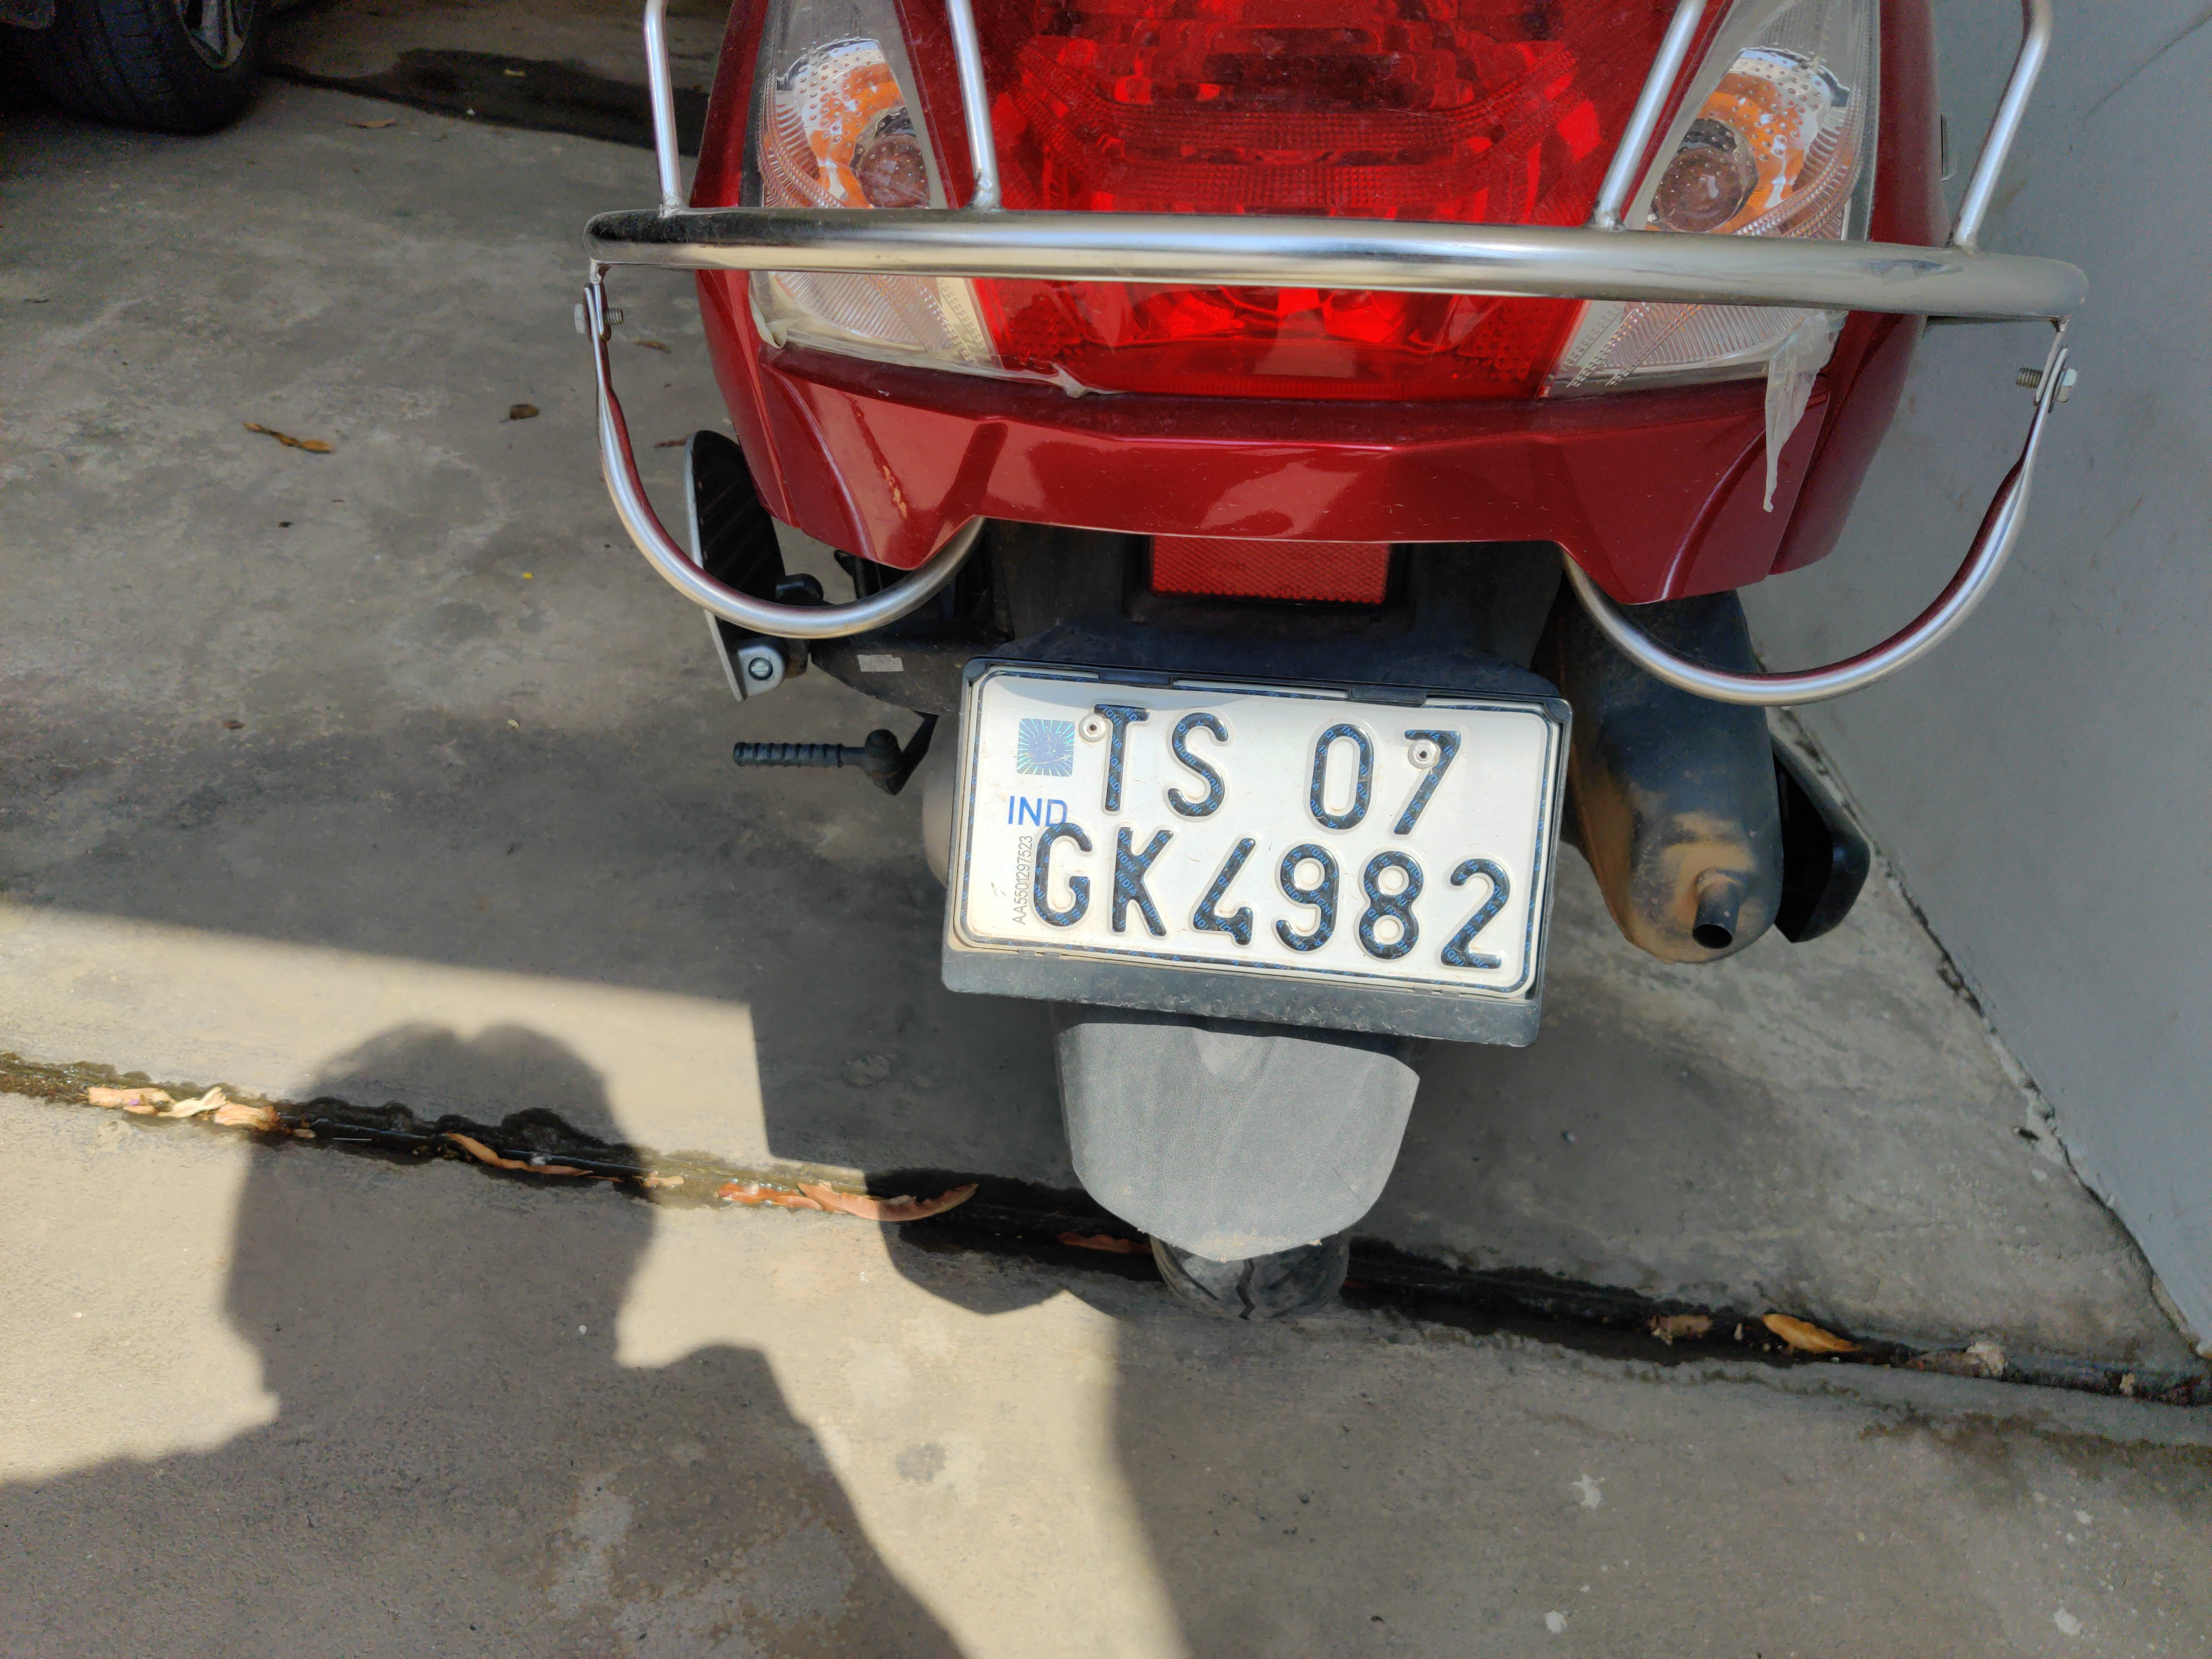plate: (932, 628, 1584, 1098)
